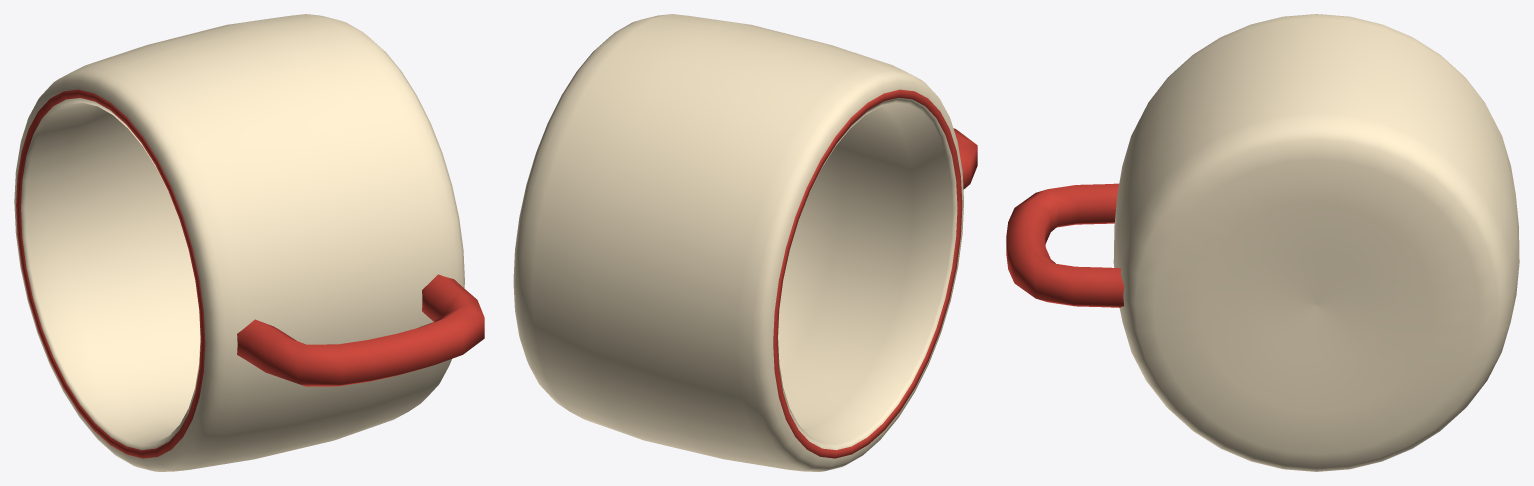
Rendered from mug-light.glb.
The picture shows the model from 3 angles, left to right: view 1: azimuth 30°, elevation 25°; view 2: azimuth 150°, elevation 25°; view 3: azimuth 270°, elevation 25°; orthographic projection. The views are drawn at different scales.
Parts seen in each view (by area): view 1: ivory, red; view 2: ivory, red; view 3: ivory, red.
Boxes of the visible parts, <box> form: ivory: <box>14,14,464,471</box>; red: <box>16,89,484,458</box>; ivory: <box>513,14,963,471</box>; red: <box>773,89,977,458</box>; ivory: <box>1113,14,1519,471</box>; red: <box>1006,183,1124,307</box>.
Bounding box in the file's own units: 0.3727 × 0.5186 × 0.6558.
